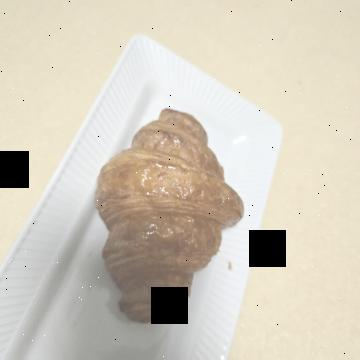croissant: (91, 110, 328, 276)
